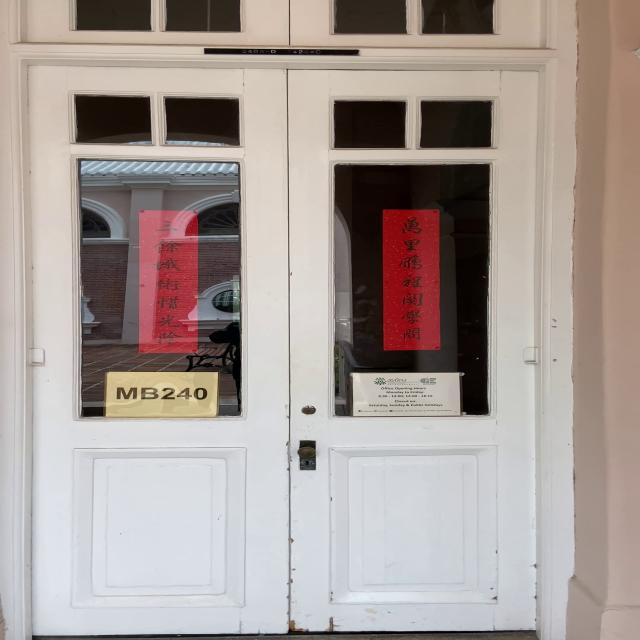room240: (101, 371, 217, 419)
